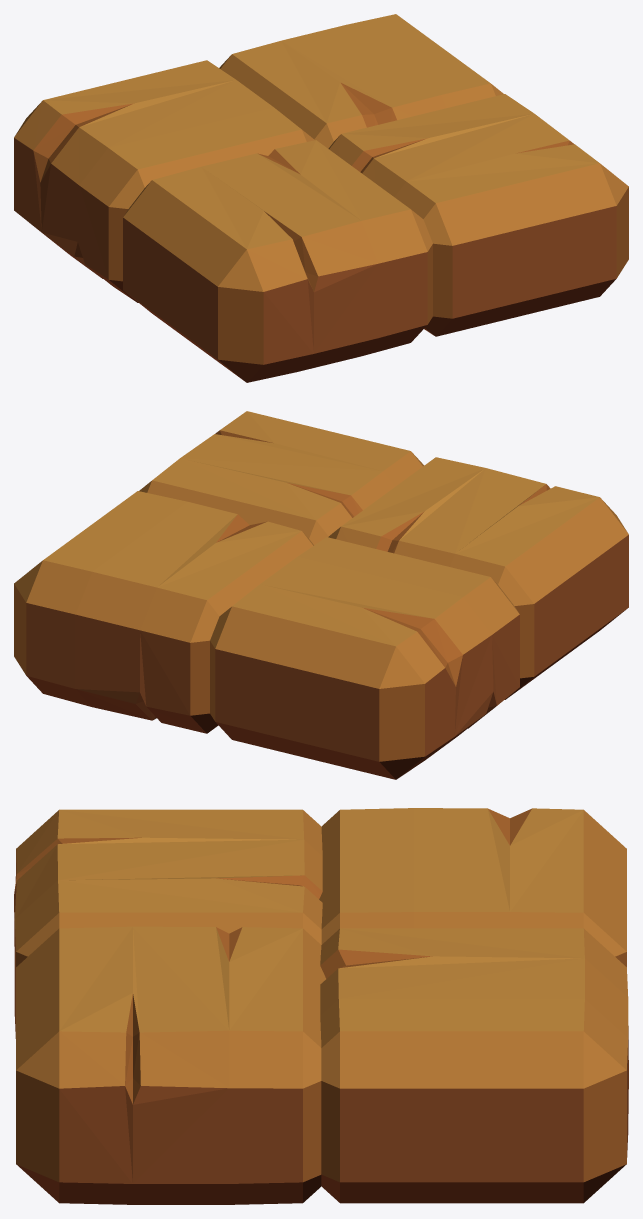
Rendered from m_kub_wood_floorFour.FBX.
3 renders of one model, top to bottom at view 1: azimuth 30°, elevation 25°; view 2: azimuth 150°, elevation 25°; view 3: azimuth 270°, elevation 25°, orthographic. The views are drawn at different scales.
Parts seen in each view (by area): view 1: m_kub_wood_floorFour; view 2: m_kub_wood_floorFour; view 3: m_kub_wood_floorFour.
Part boxes in pixels (x1,y1,x2,y2): m_kub_wood_floorFour: (14,14,628,382); m_kub_wood_floorFour: (14,411,628,779); m_kub_wood_floorFour: (14,808,628,1204).
Size of the model in its own units: 2.19 by 0.7 by 2.19.
